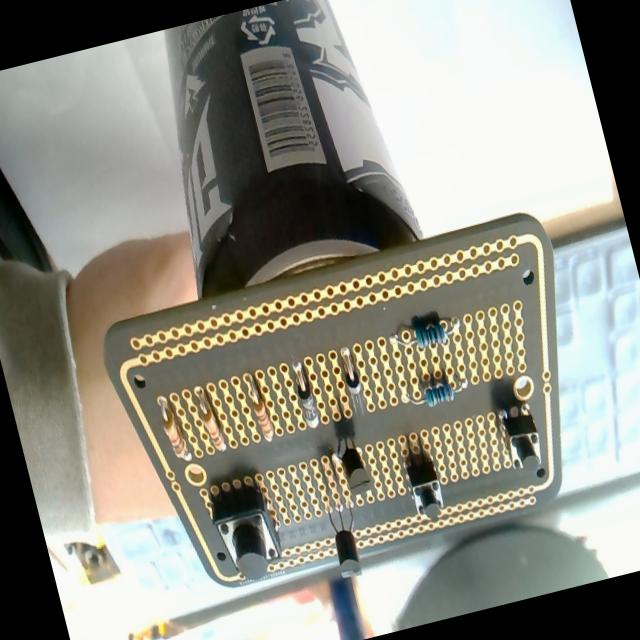diode: (288, 358, 322, 431), (336, 344, 369, 419)
resistor: (388, 308, 462, 354), (402, 366, 470, 412), (156, 394, 194, 466), (192, 384, 228, 456), (243, 372, 276, 443), (422, 374, 456, 408)
switch: (204, 474, 289, 584), (398, 437, 449, 525), (497, 398, 549, 482)
transistor: (322, 496, 368, 578), (331, 434, 374, 498)
